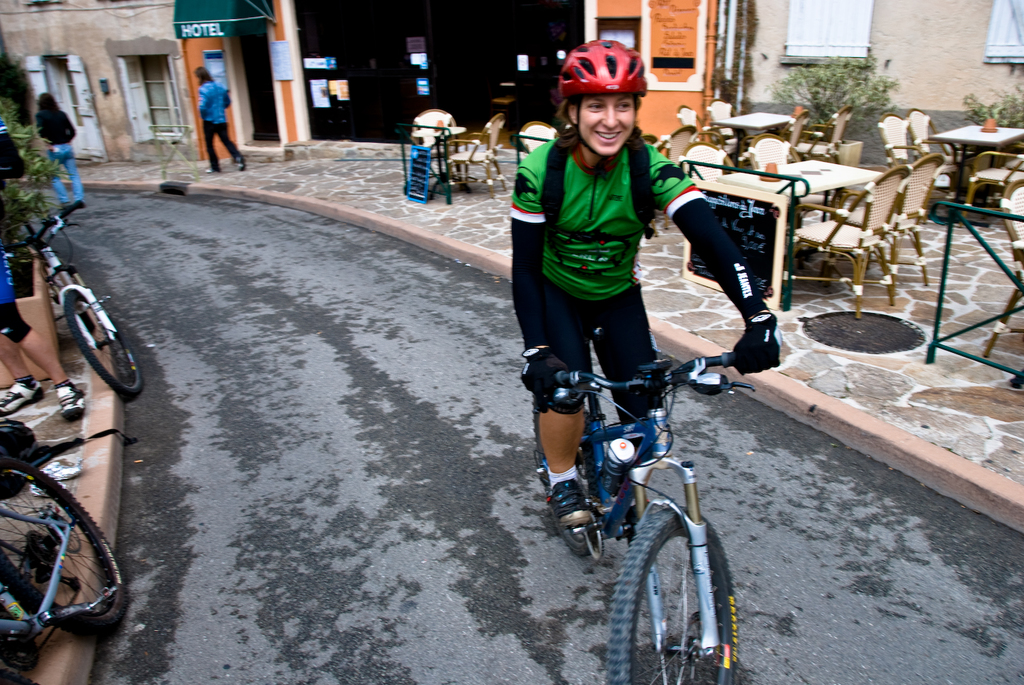Bike_toward: (508, 355, 788, 681)
